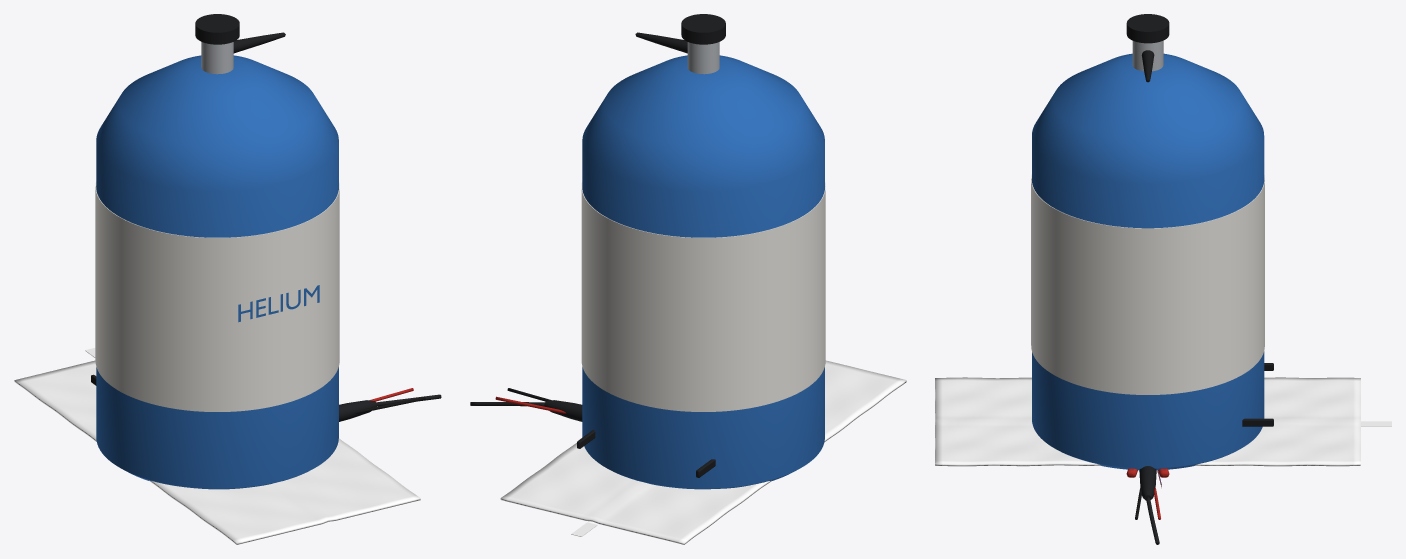
Rendered from bench.glb.
The picture shows the model from 3 angles, left to right: view 1: azimuth 30°, elevation 25°; view 2: azimuth 150°, elevation 25°; view 3: azimuth 270°, elevation 25°; orthographic projection. The views are drawn at different scales.
Parts seen in each view (by area): view 1: helium_tank mesh, balloon_flat mesh, iron mesh; view 2: helium_tank mesh, balloon_flat mesh, iron mesh; view 3: helium_tank mesh, balloon_flat mesh, iron mesh.
Boxes of the visible parts, left/top/right/bottom form: helium_tank mesh: left=95, top=14, right=339, bottom=489; balloon_flat mesh: left=14, top=348, right=420, bottom=544; iron mesh: left=339, top=394, right=441, bottom=421; helium_tank mesh: left=581, top=14, right=825, bottom=489; balloon_flat mesh: left=500, top=360, right=906, bottom=544; iron mesh: left=470, top=400, right=582, bottom=421; helium_tank mesh: left=1031, top=14, right=1264, bottom=470; balloon_flat mesh: left=935, top=377, right=1391, bottom=466; iron mesh: left=1139, top=466, right=1159, bottom=544.
Size of the model in its own units: 0.3813 by 0.5296 by 0.4721.
